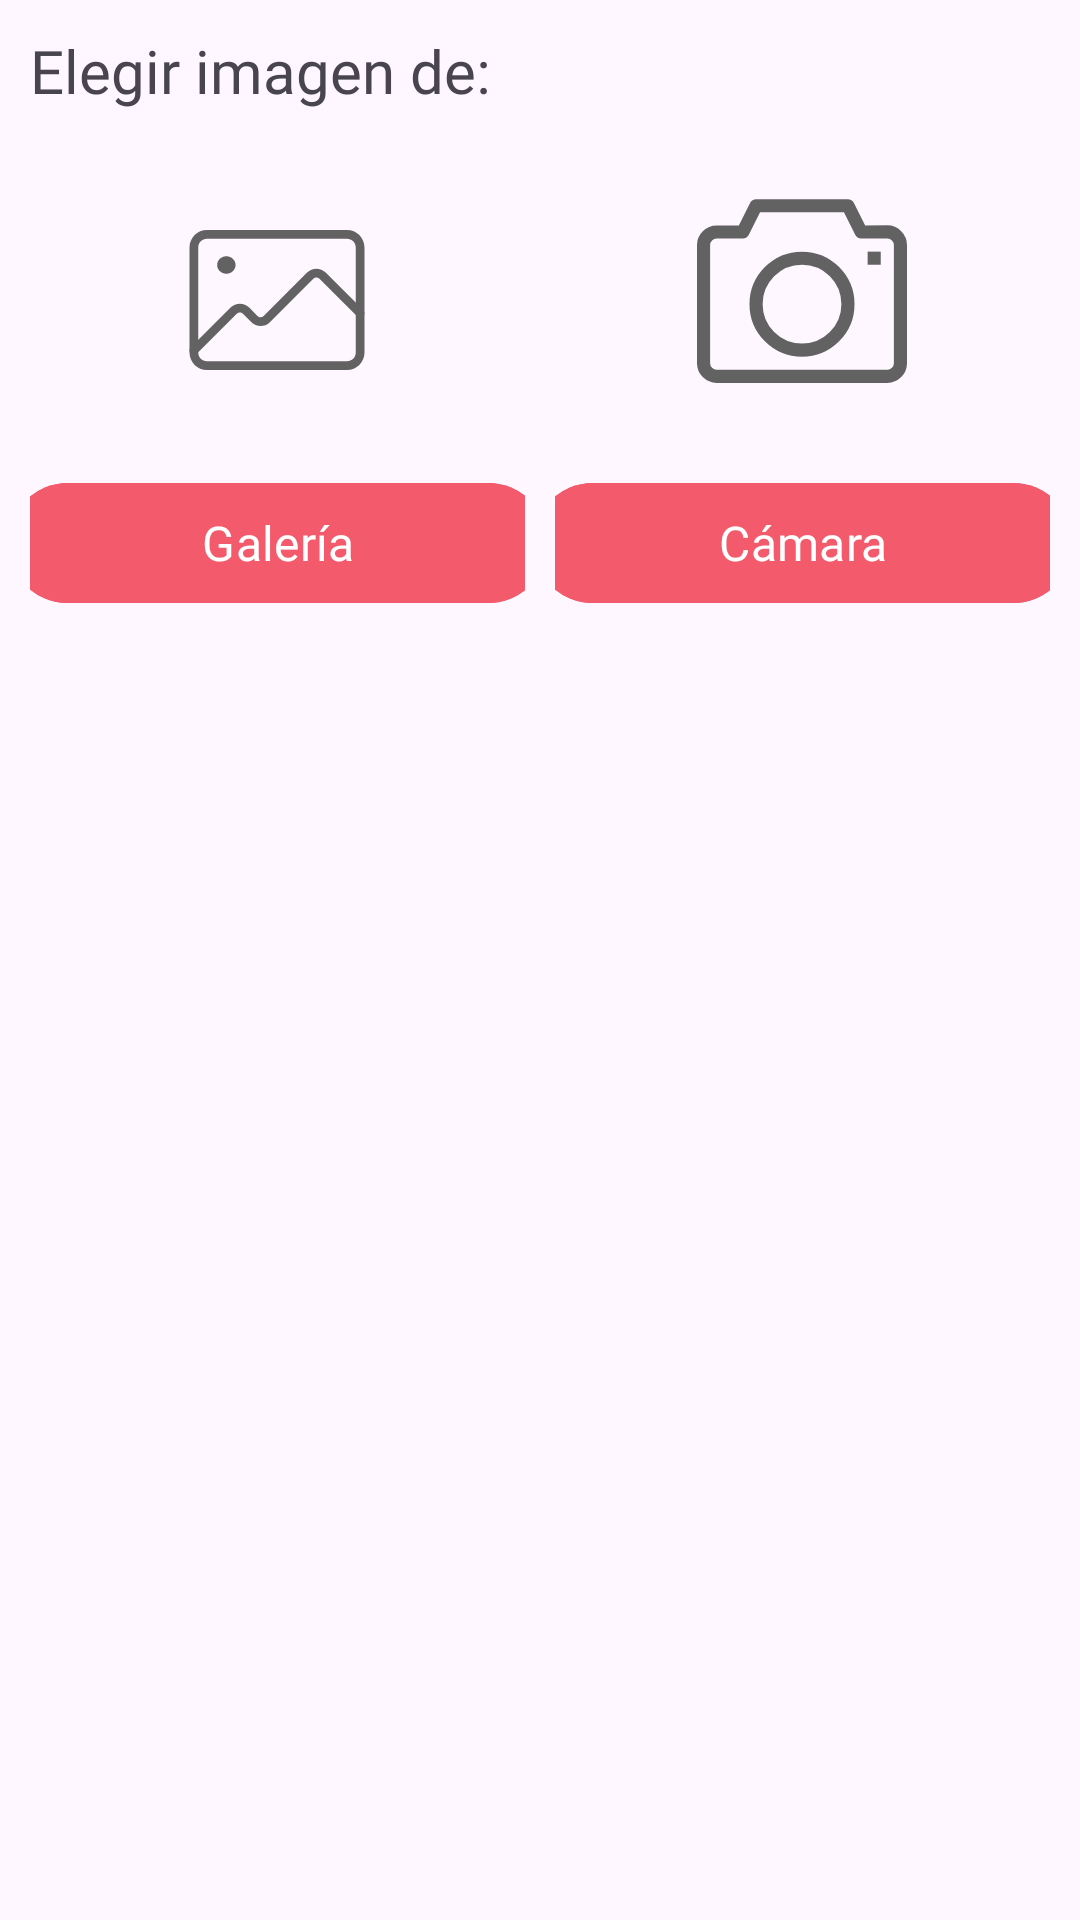

Screen size 1080 x 1920. Icon name, then its center in pixels as (x,y):
galerys: (277,300)
photocam: (802,291)
